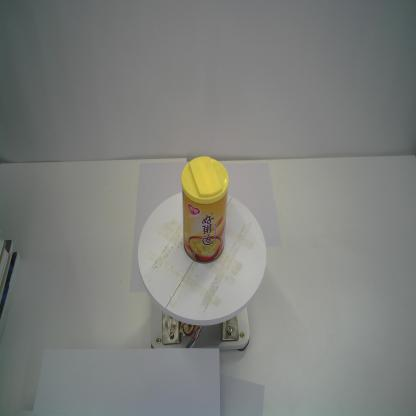Canned Food: (180, 154, 230, 266)
